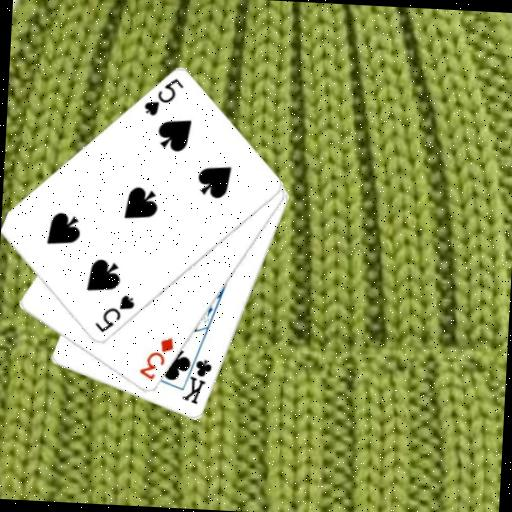3D: (136, 333, 177, 384)
5S: (92, 290, 138, 336), (140, 74, 186, 120)
KC: (177, 348, 215, 407)
